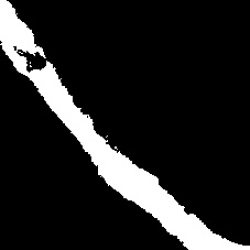crack: (0, 1, 249, 249)
